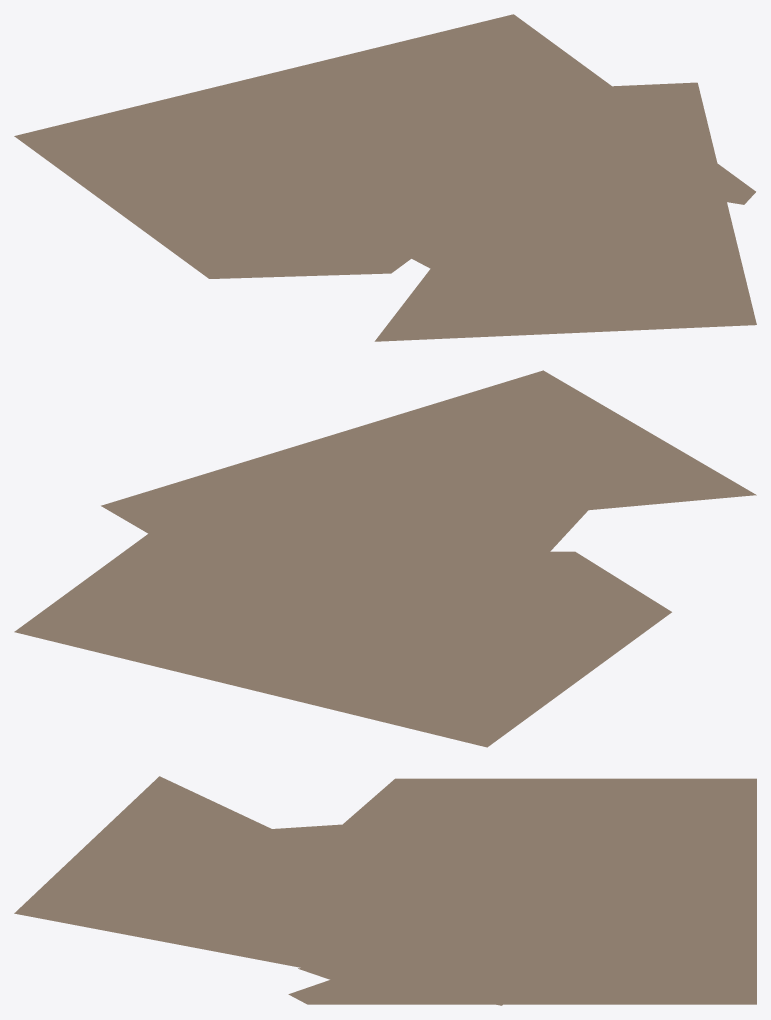
The model's file is Letter6.fbx.
3 renders of one model, top to bottom at view 1: azimuth 30°, elevation 25°; view 2: azimuth 150°, elevation 25°; view 3: azimuth 270°, elevation 25°, orthographic. The views are drawn at different scales.
Parts seen in each view (by area): view 1: Cube.057, Cube.058; view 2: Cube.057, Cube.058; view 3: Cube.057, Cube.058.
Boxes of the visible parts, box(x1,y1,x2,y2) form: Cube.057: box(257, 82, 756, 341); Cube.058: box(14, 14, 755, 278); Cube.057: box(101, 370, 756, 617); Cube.058: box(14, 534, 671, 747); Cube.057: box(14, 776, 610, 1005); Cube.058: box(288, 778, 756, 1004).
Size of the model in its own units: 65.96 by 2.45 by 83.92.
